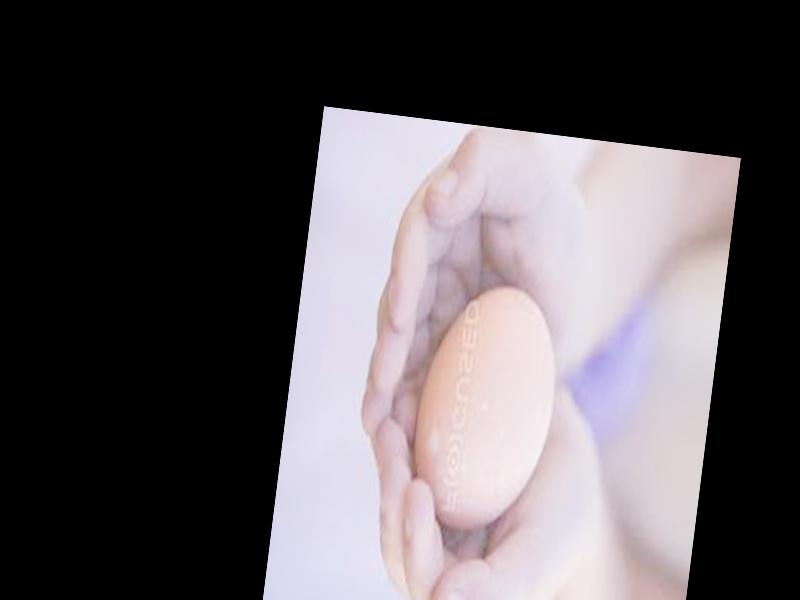Eggs: (404, 273, 568, 536)
